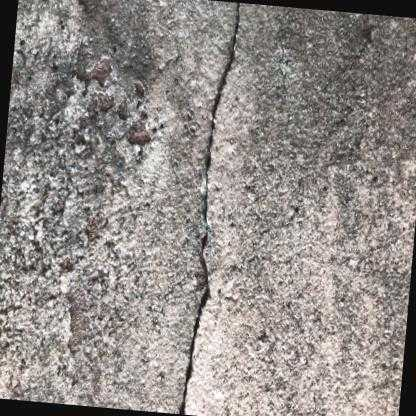crack: (175, 2, 241, 415)
